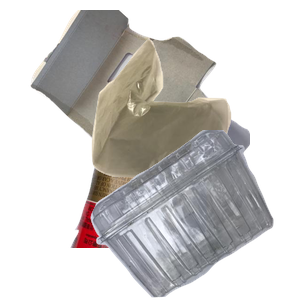glass: (68, 120, 255, 300)
paper: (28, 10, 268, 190)
plastic: (88, 130, 300, 300)
trash: (89, 37, 300, 213)
